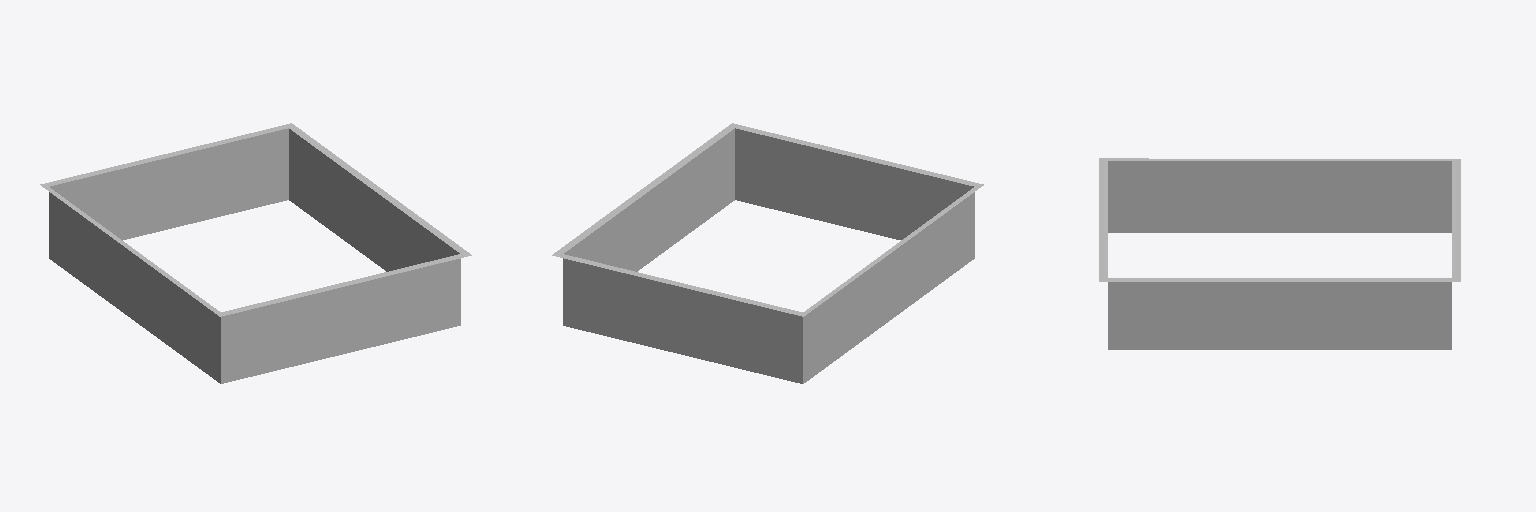
The model's file is Wall.obj.
3 views of the same model, side by side, from view 1: azimuth 30°, elevation 25°; view 2: azimuth 150°, elevation 25°; view 3: azimuth 270°, elevation 25° (orthographic).
Visible parts, largest first — view 1: Wall; view 2: Wall; view 3: Wall.
Part boxes in pixels (x1,y1,x2,y2): Wall: (40,123,471,383); Wall: (552,123,983,383); Wall: (1099,158,1460,349).
Size of the model in its own units: 84.66 by 23.01 by 105.